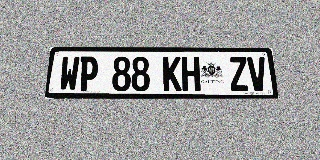8: (112, 57, 131, 91), (131, 57, 150, 91)
H: (181, 57, 201, 91)
K: (163, 57, 182, 91)
P: (78, 56, 99, 91)
V: (247, 57, 268, 91)
W: (58, 56, 80, 91)
Z: (228, 57, 249, 91)
